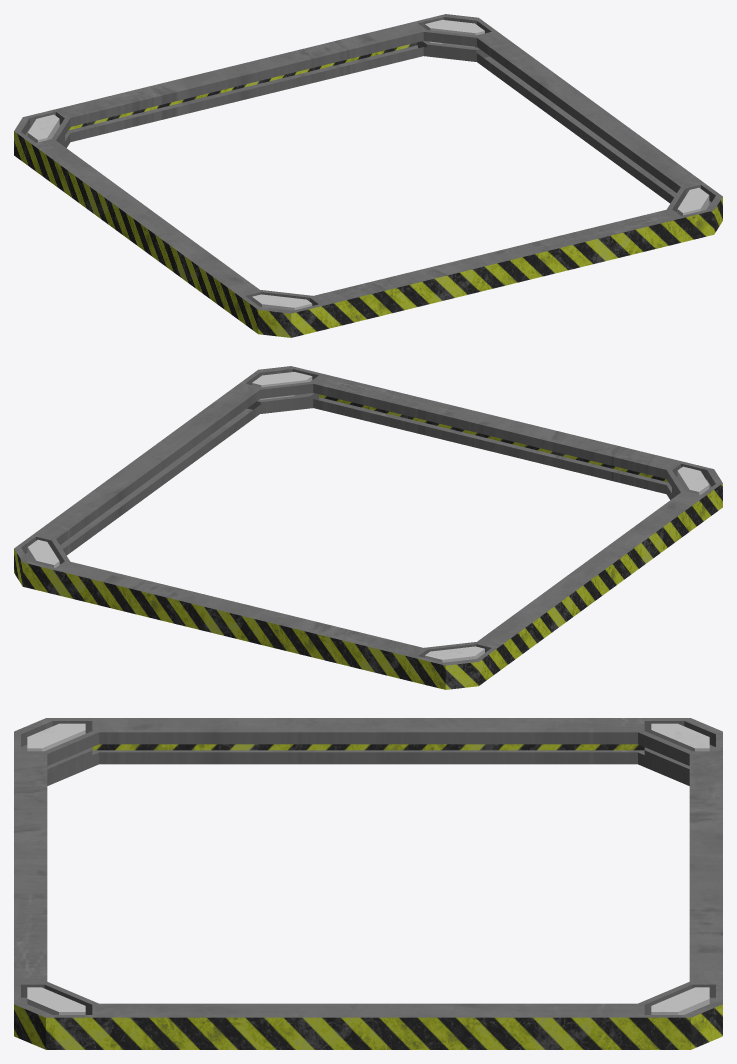
The model's file is Frame Glass.fbx.
The picture shows the model from 3 angles, top to bottom: view 1: azimuth 30°, elevation 25°; view 2: azimuth 150°, elevation 25°; view 3: azimuth 270°, elevation 25°; orthographic projection. The views are drawn at different scales.
Parts seen in each view (by area): view 1: Plane.002; view 2: Plane.002; view 3: Plane.002.
Boxes of the visible parts, x1,y1,x2,y2 form: Plane.002: [14, 14, 722, 337]; Plane.002: [14, 366, 722, 689]; Plane.002: [14, 718, 722, 1049].
Bounding box in the file's own units: 200 × 10 × 200.
Materials: 1 (1 with a texture image).
